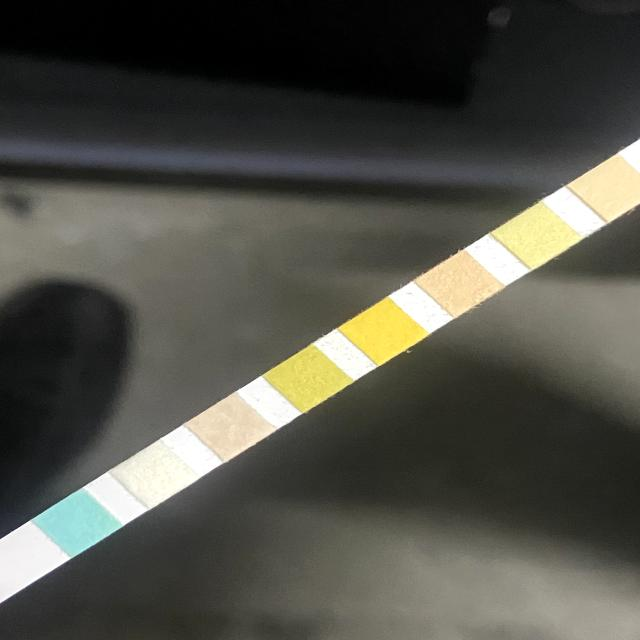Bilirubin: (130, 457, 178, 492)
Blood: (357, 316, 409, 348)
Glucose: (53, 504, 101, 543)
Ketone: (207, 410, 254, 444)
Protein: (514, 218, 560, 255)
SpGravity: (282, 361, 332, 397)
Urobilinogen: (589, 171, 636, 207)
pH: (436, 266, 485, 302)
